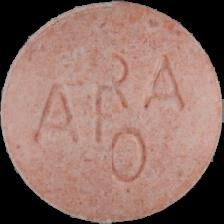60505-0168: (0, 0, 224, 224)
